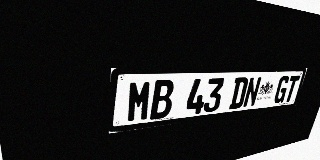3: (202, 78, 225, 113)
4: (185, 78, 208, 115)
B: (150, 79, 175, 120)
D: (228, 77, 249, 110)
G: (273, 76, 291, 104)
M: (126, 80, 153, 123)
N: (242, 77, 262, 108)
T: (283, 75, 300, 102)
